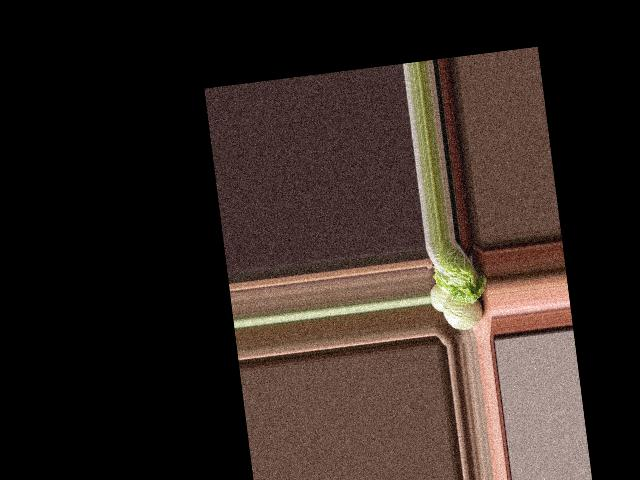lettuce: (427, 238, 490, 308)
